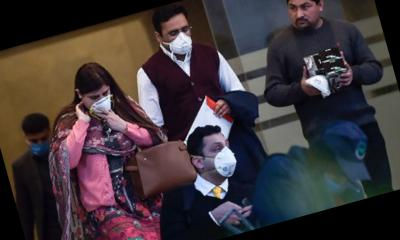with_mask: (197, 136, 241, 182), (157, 21, 196, 58), (81, 87, 118, 119), (26, 131, 55, 159)
